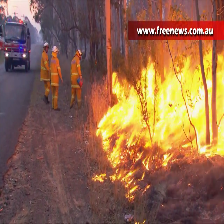fire_h: (93, 51, 224, 199), (110, 169, 136, 186)
fire_l: (92, 172, 106, 183), (141, 184, 152, 196), (129, 184, 138, 194), (126, 195, 136, 202), (139, 173, 147, 179)
